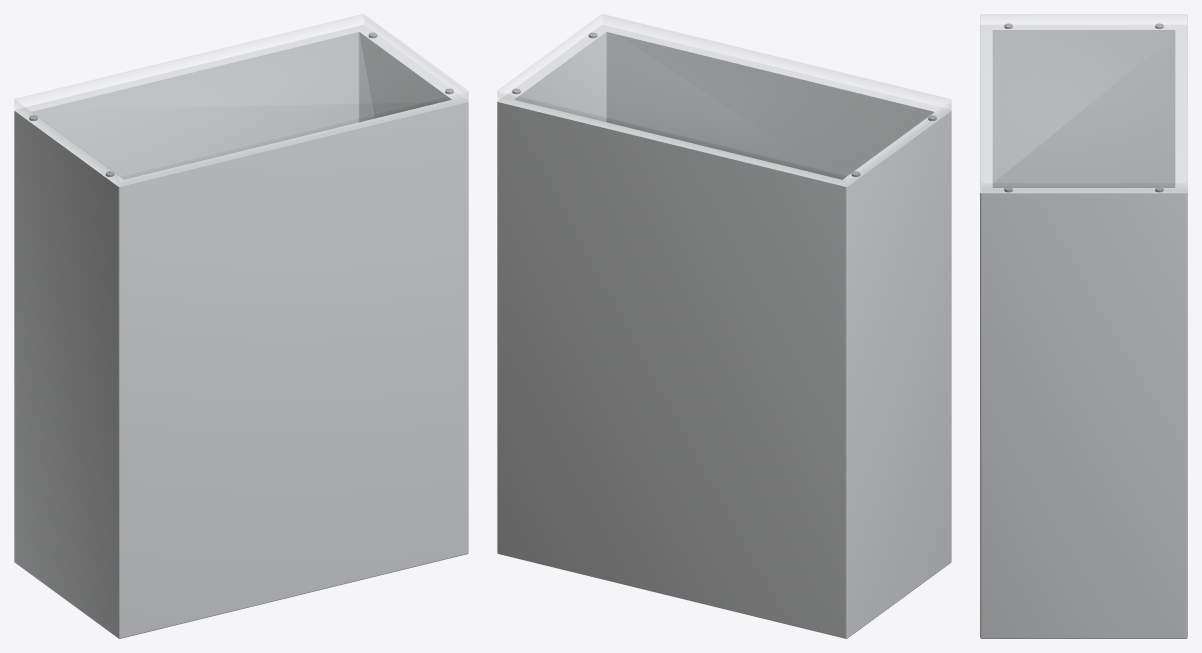
File: acrylic-case-comic-cover.glb
The picture shows the model from 3 angles, left to right: view 1: azimuth 30°, elevation 25°; view 2: azimuth 150°, elevation 25°; view 3: azimuth 270°, elevation 25°; orthographic projection.
Visible parts, largest first — view 1: Cube, Cube.002; view 2: Cube, Cube.002; view 3: Cube, Cube.002.
Boxes of the visible parts, bbox=[...] form: Cube: bbox=[14, 25, 468, 638]; Cube.002: bbox=[14, 14, 468, 186]; Cube: bbox=[497, 25, 951, 638]; Cube.002: bbox=[497, 14, 951, 186]; Cube: bbox=[980, 24, 1187, 638]; Cube.002: bbox=[980, 14, 1187, 192].
Size of the model in its own units: 0.192 by 0.243 by 0.1.
Materials: 4 (3 with a texture image).
